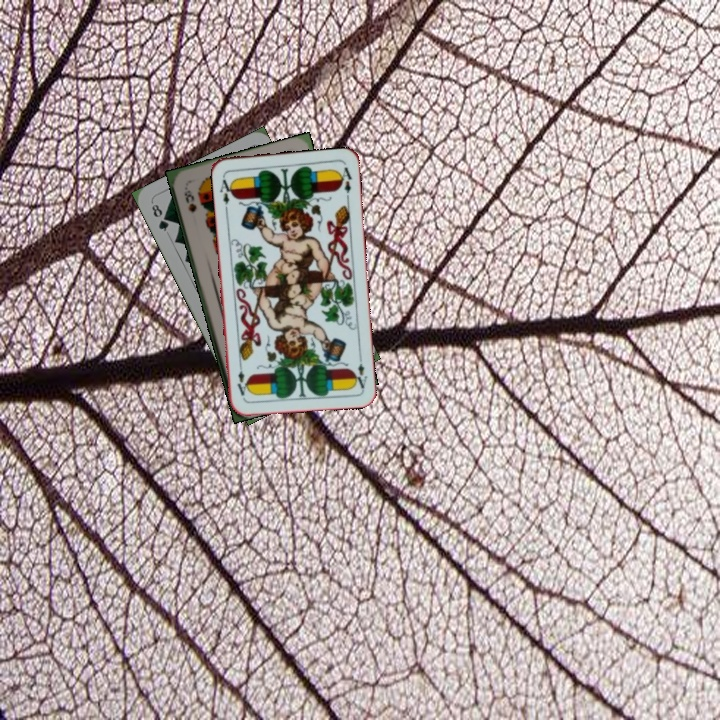EA: (350, 351, 370, 391), (216, 176, 236, 207)
G8: (147, 200, 171, 234)
S8: (180, 183, 199, 215)
